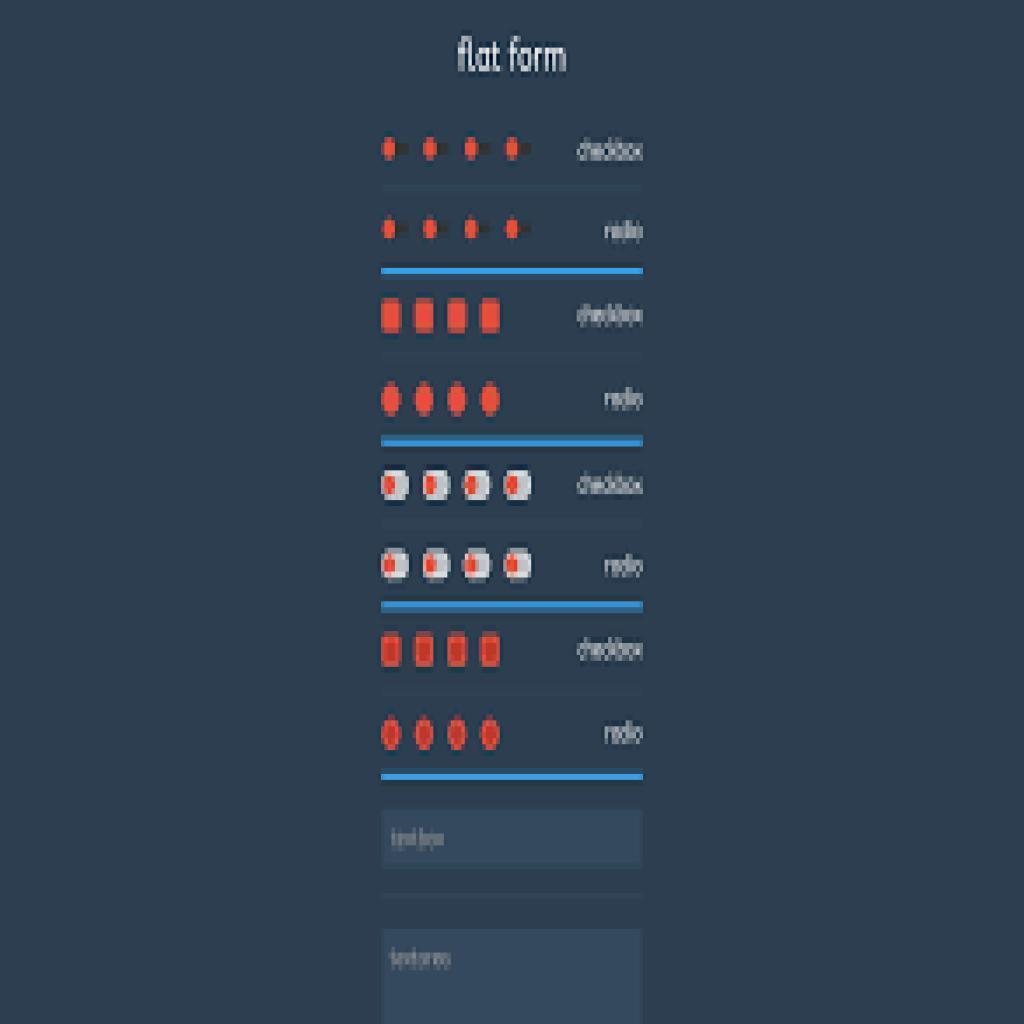checkbox: (412, 630, 440, 670), (445, 630, 470, 671), (478, 630, 504, 669), (444, 296, 470, 335), (378, 631, 404, 669), (479, 296, 502, 336), (379, 297, 403, 335), (413, 296, 435, 335)
radio: (377, 713, 404, 753), (478, 378, 503, 419), (446, 377, 470, 419), (411, 380, 435, 420), (445, 713, 468, 753), (412, 716, 437, 752), (380, 380, 403, 418), (478, 714, 500, 752)
switch: (501, 546, 536, 585), (499, 211, 535, 248), (458, 211, 493, 248), (377, 134, 415, 168), (461, 546, 494, 584), (380, 546, 411, 586), (501, 133, 536, 168), (460, 468, 494, 504), (502, 467, 535, 504), (420, 547, 453, 584), (462, 132, 496, 167), (420, 470, 456, 503), (420, 132, 453, 166), (421, 212, 454, 246), (378, 211, 413, 243), (381, 469, 411, 502)
